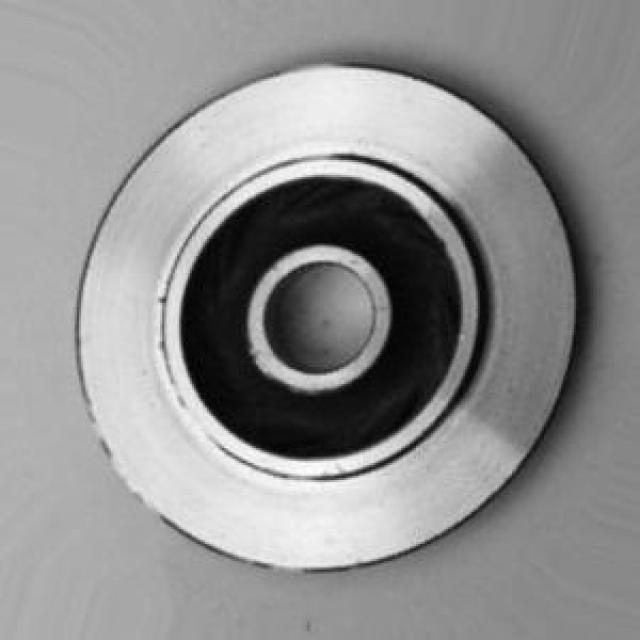Defect: (151, 289, 176, 312)
